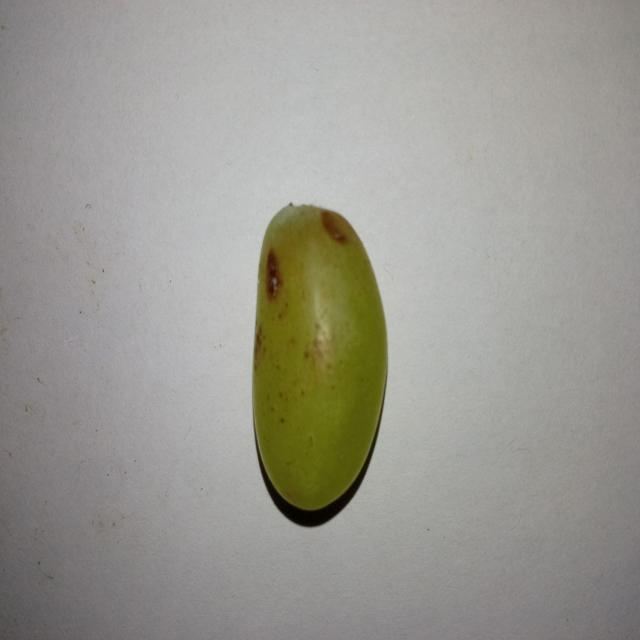rotten_grape: (255, 208, 381, 506)
